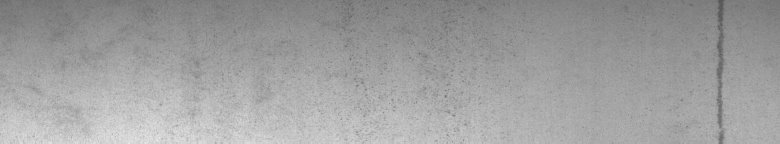hd: (705, 4, 728, 136)
